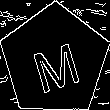M_N: (27, 29, 83, 92)
